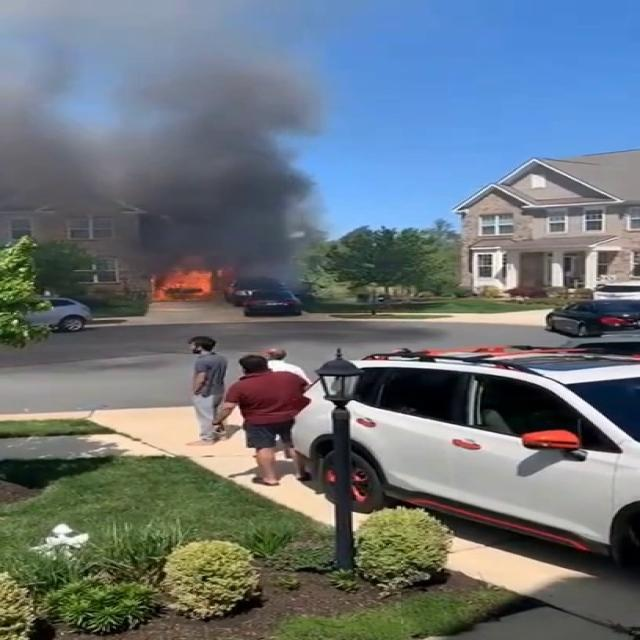Fire: (152, 264, 223, 302)
Smoke: (0, 0, 340, 281)
